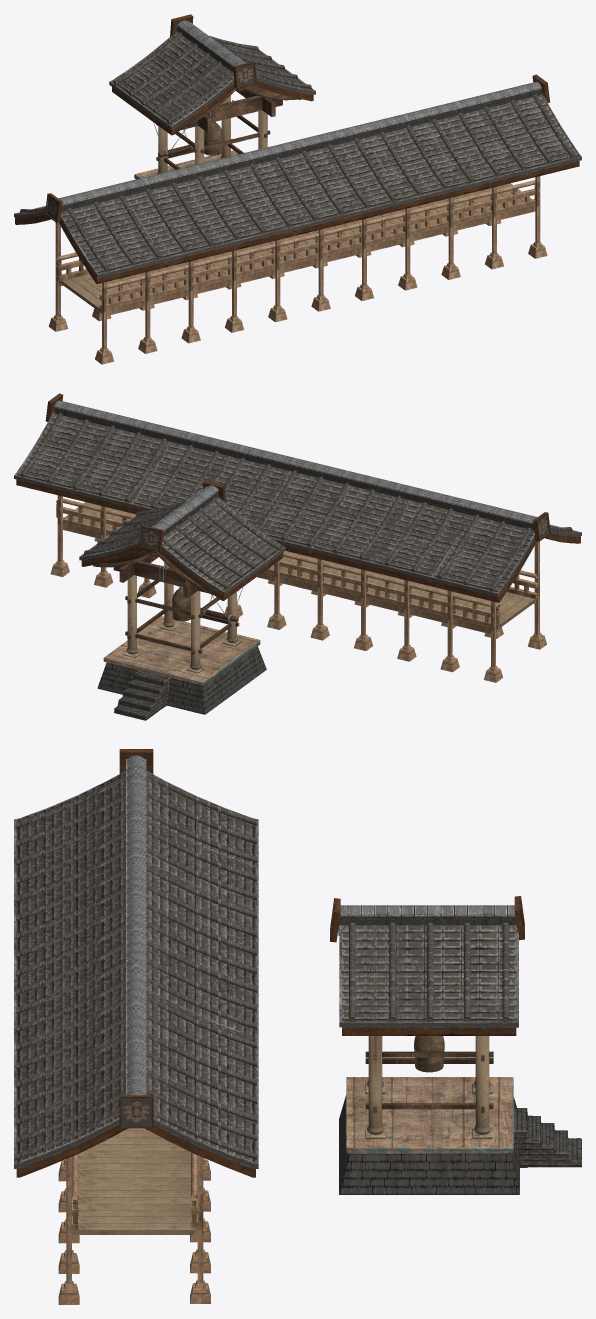
File: shrine_hall.glb
3 views of the same model, one above another, from view 1: azimuth 30°, elevation 25°; view 2: azimuth 150°, elevation 25°; view 3: azimuth 270°, elevation 25° (orthographic). The views are drawn at different scales.
Parts seen in each view (by area): view 1: JapaneseHouse_008, Besedka 3, skk, Besedka, wood_001, wood_002, Kolocol, wood_003; view 2: JapaneseHouse_008, Besedka 3, skk, stone_001, wood_001, Besedka, wood_002, Kolocol; view 3: JapaneseHouse_008, skk, stone_001, Besedka, Besedka 3, wood_002, wood_001, Kolocol.
Part boxes in pixels (x1,y1,x2,y2): JapaneseHouse_008: [14, 74, 581, 283]; Besedka 3: [48, 176, 547, 364]; skk: [109, 14, 315, 135]; Besedka: [60, 183, 531, 313]; wood_001: [156, 87, 301, 169]; wood_002: [157, 95, 267, 173]; Kolocol: [153, 100, 235, 156]; wood_003: [188, 85, 298, 124]; JapaneseHouse_008: [14, 393, 581, 602]; Besedka 3: [50, 495, 546, 682]; skk: [79, 480, 285, 600]; stone_001: [97, 616, 266, 720]; wood_001: [93, 551, 239, 654]; Besedka: [64, 502, 537, 630]; wood_002: [126, 562, 237, 669]; Kolocol: [159, 565, 242, 621]; JapaneseHouse_008: [14, 749, 258, 1177]; skk: [330, 896, 524, 1035]; stone_001: [339, 1077, 581, 1194]; Besedka: [72, 1128, 194, 1234]; Besedka 3: [58, 1152, 210, 1304]; wood_002: [367, 1036, 490, 1134]; wood_001: [365, 1051, 493, 1112]; Kolocol: [414, 1036, 444, 1072].
Size of the model in its own units: 68.07 by 22.92 by 46.48.
8 materials, 8 textured.
